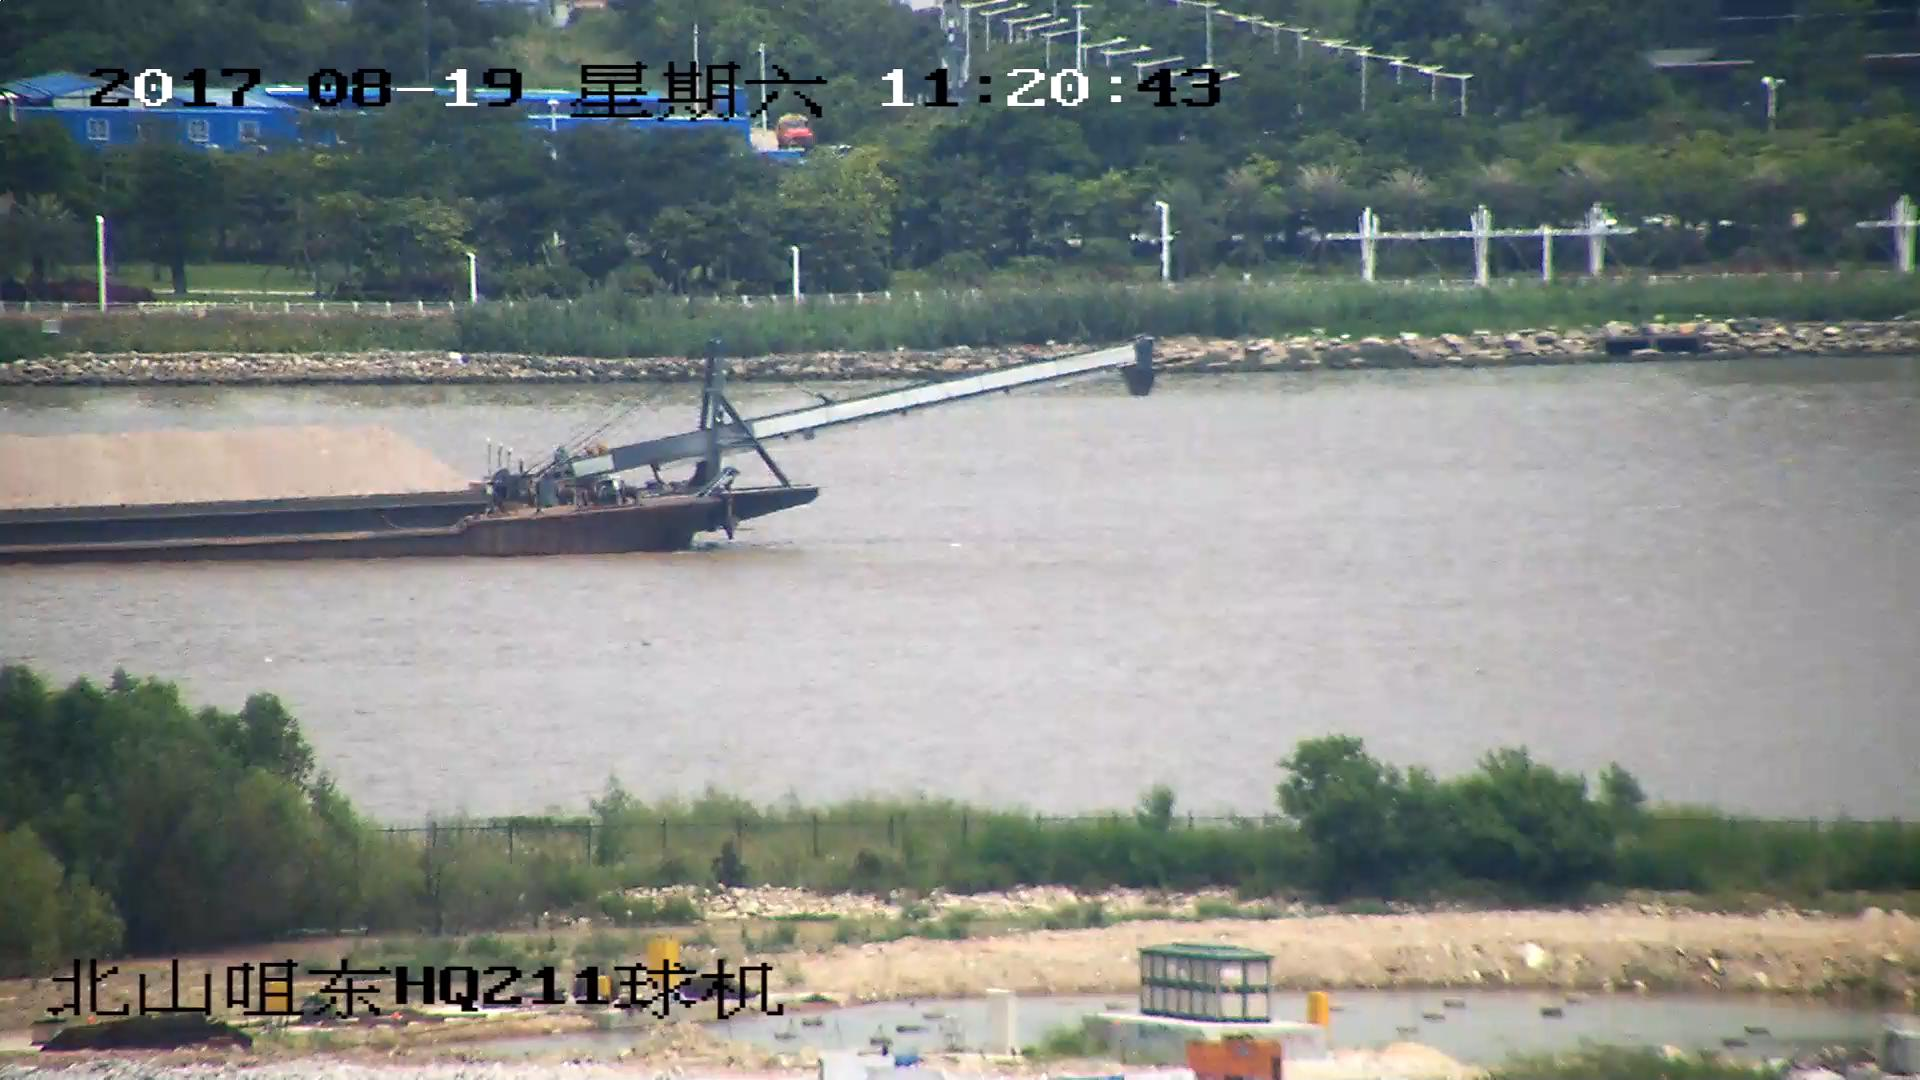ore carrier: (1, 340, 1151, 560)
